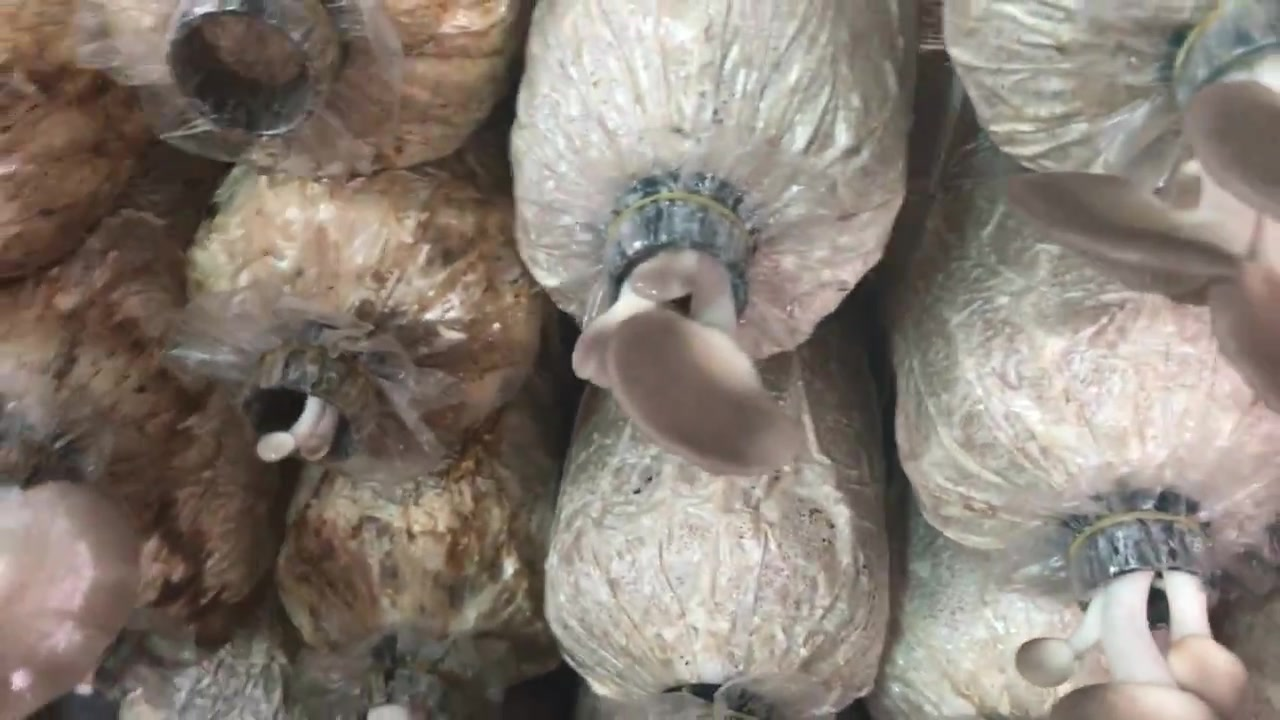nam: (1006, 20, 1280, 416), (570, 205, 805, 475), (1017, 513, 1272, 720), (248, 349, 366, 467)
